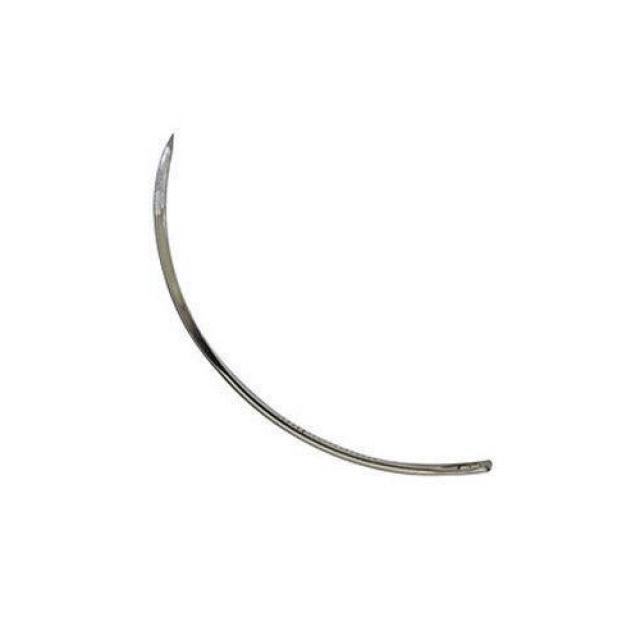Needle: (148, 130, 496, 482)
